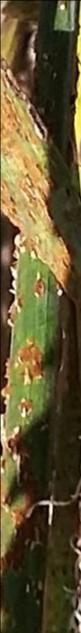Wheat: (4, 102, 61, 417)
